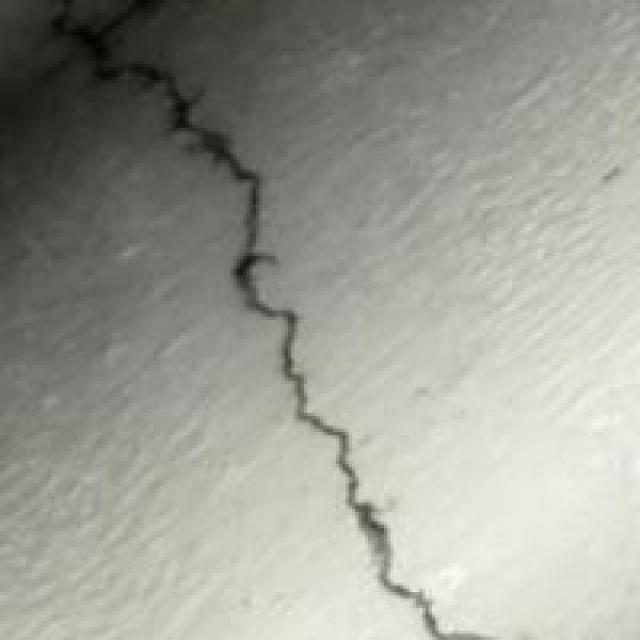crack: (90, 9, 464, 636)
